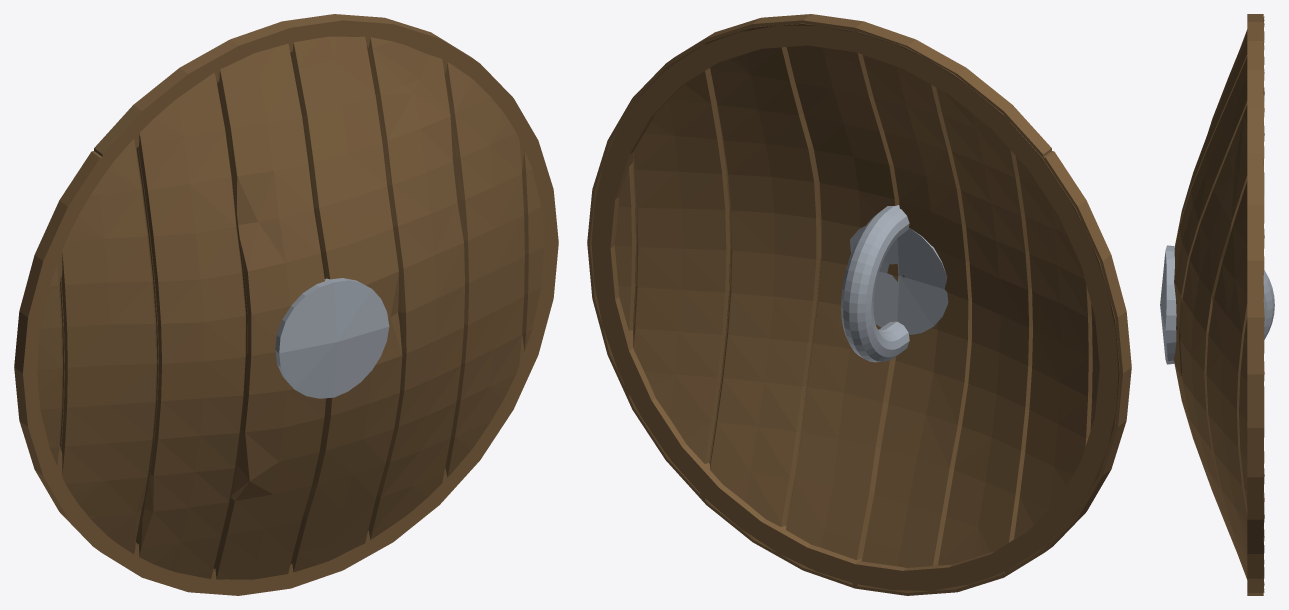
The model's file is Buckler.fbx.
The picture shows the model from 3 angles, left to right: view 1: azimuth 30°, elevation 25°; view 2: azimuth 150°, elevation 25°; view 3: azimuth 270°, elevation 25°; orthographic projection. The views are drawn at different scales.
Visible parts, largest first — view 1: Shield 1; view 2: Shield 1; view 3: Shield 1.
Part boxes in pixels (x1=…): Shield 1: x1=14, y1=14, x2=558, y2=595; Shield 1: x1=587, y1=14, x2=1131, y2=595; Shield 1: x1=1160, y1=14, x2=1274, y2=595.
Bounding box in the file's own units: 0.6127 × 0.6127 × 0.1208.
